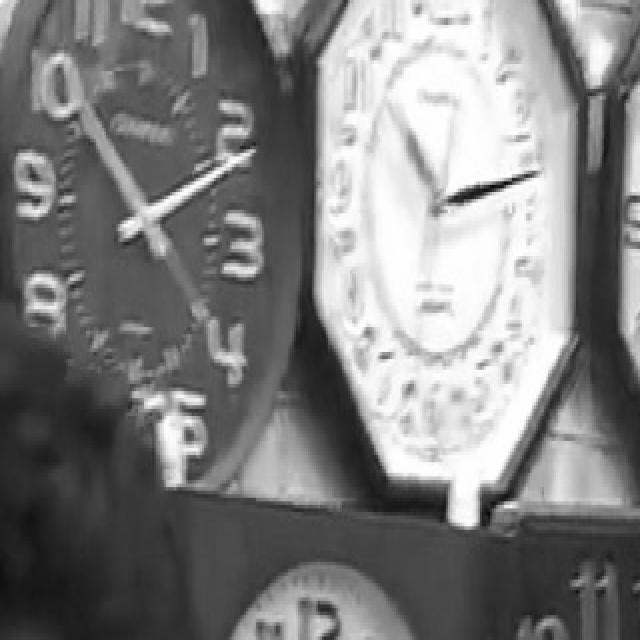wallclock: (0, 0, 298, 494), (296, 0, 584, 508), (166, 480, 478, 640), (494, 501, 640, 640), (36, 44, 84, 126)
